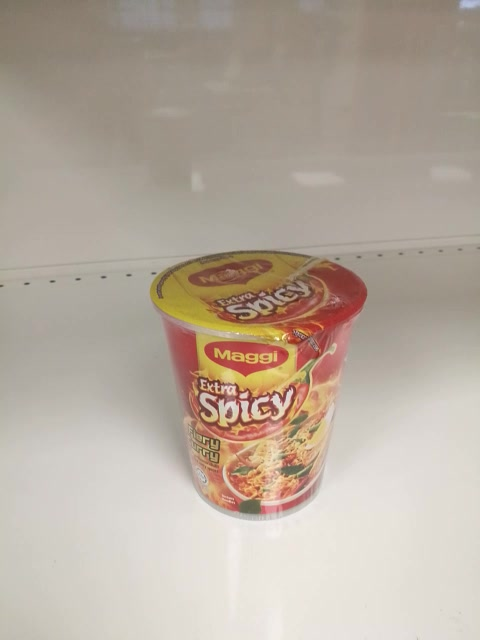maggi: (150, 249, 369, 521)
